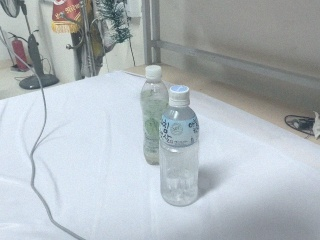bottle: (159, 85, 201, 207), (139, 64, 170, 166)
